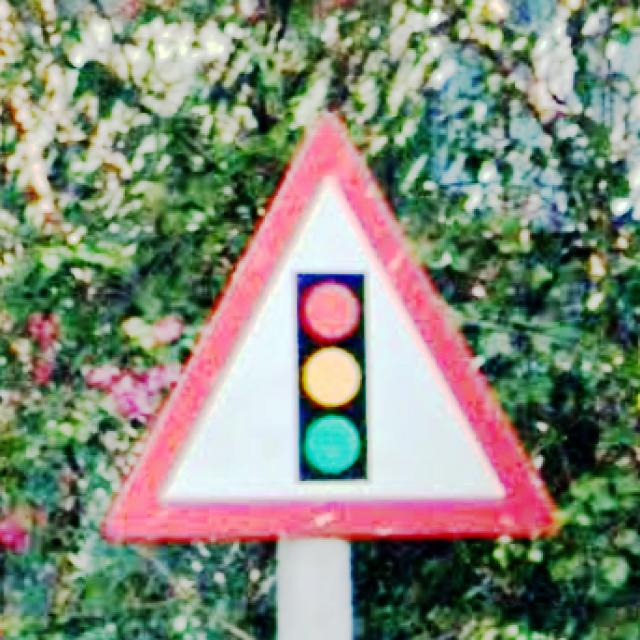signalahead: (101, 109, 558, 544)
